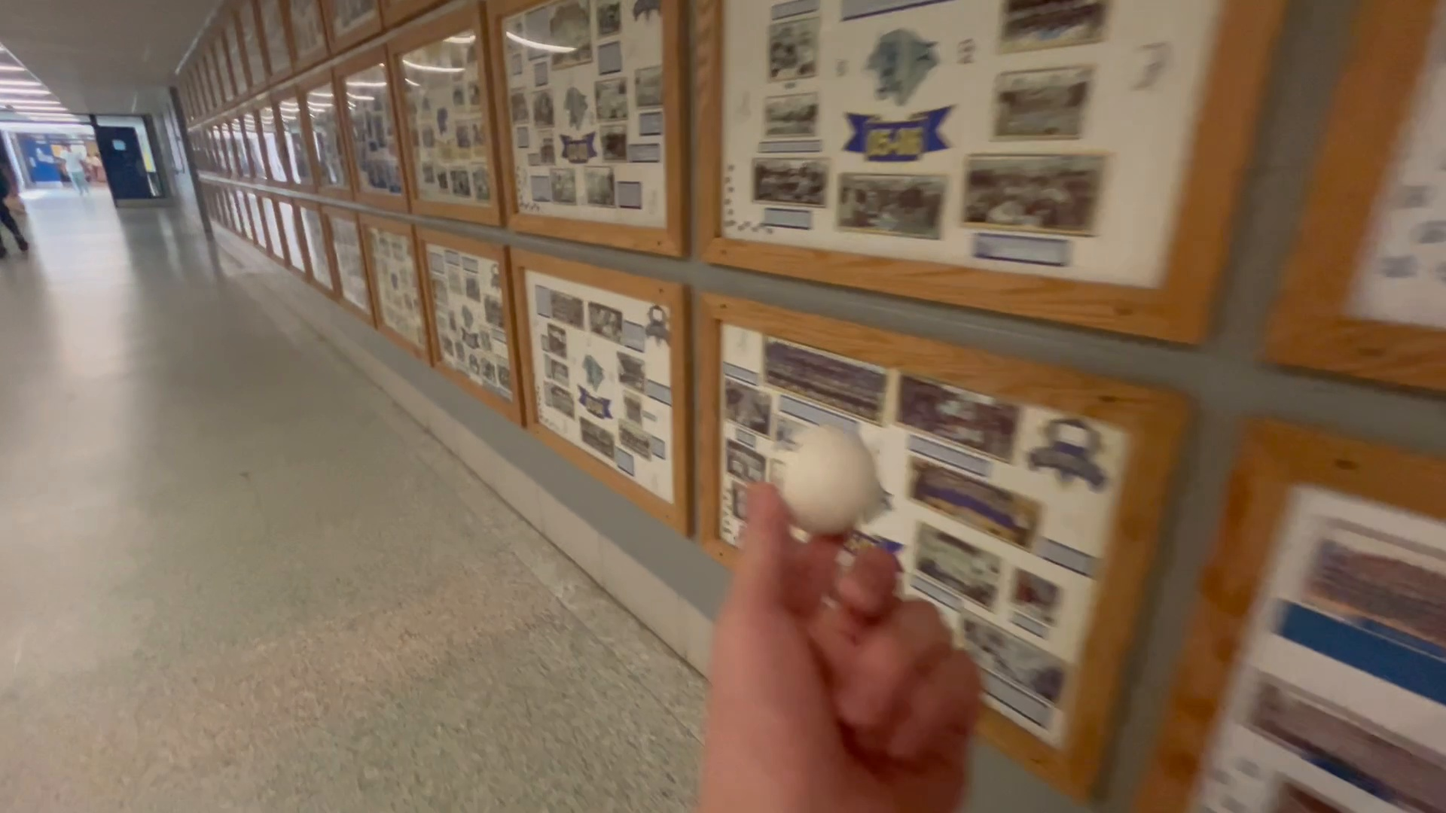Ball: (777, 434, 876, 528)
